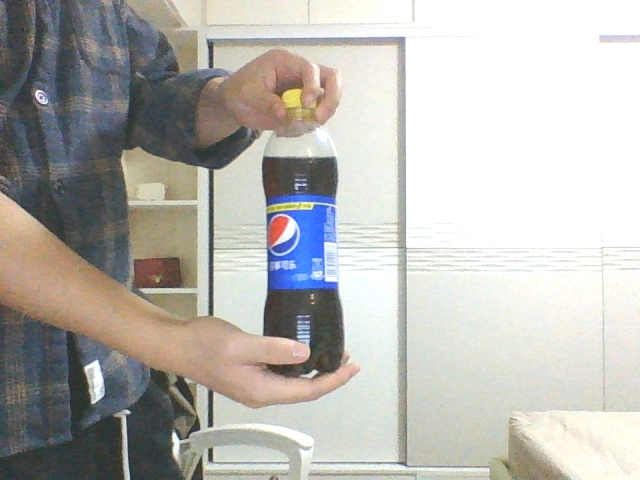Cola: (260, 88, 345, 373)
